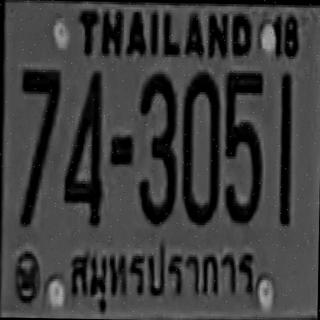N00: (179, 70, 220, 222)
N01: (278, 72, 292, 225)
N03: (136, 71, 177, 222)
N04: (62, 68, 102, 223)
N05: (222, 69, 264, 224)
N07: (18, 67, 59, 225)
P57: (72, 237, 258, 308)
